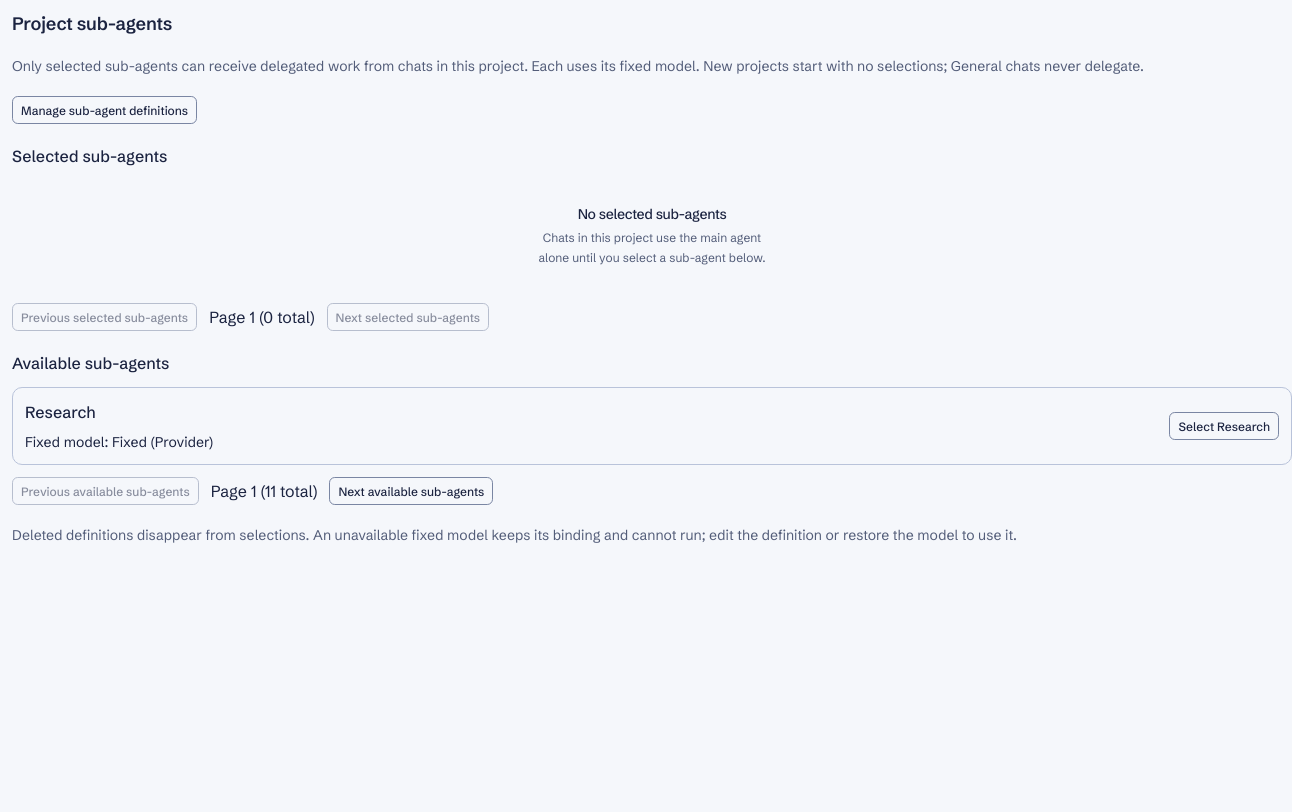
Test: paginates candidates with project-local scope and blocks unavailable model additions
Click the button "Next available sub-agents" at (411, 491), box 329,477 -> 493,505
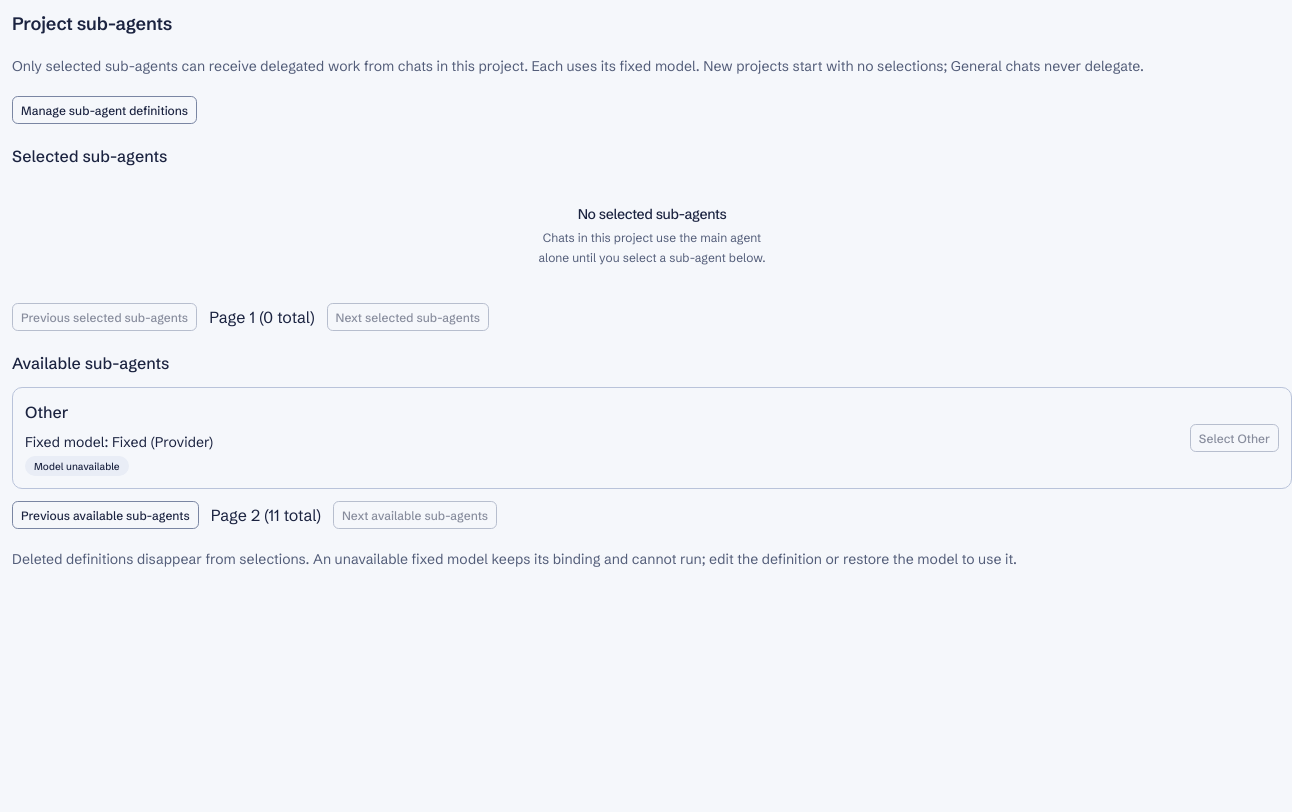
expect the button "Select Other" is disabled: met, box 1190,424 -> 1279,452
expect the text "Model unavailable" is shown: met, box 25,456 -> 129,476
